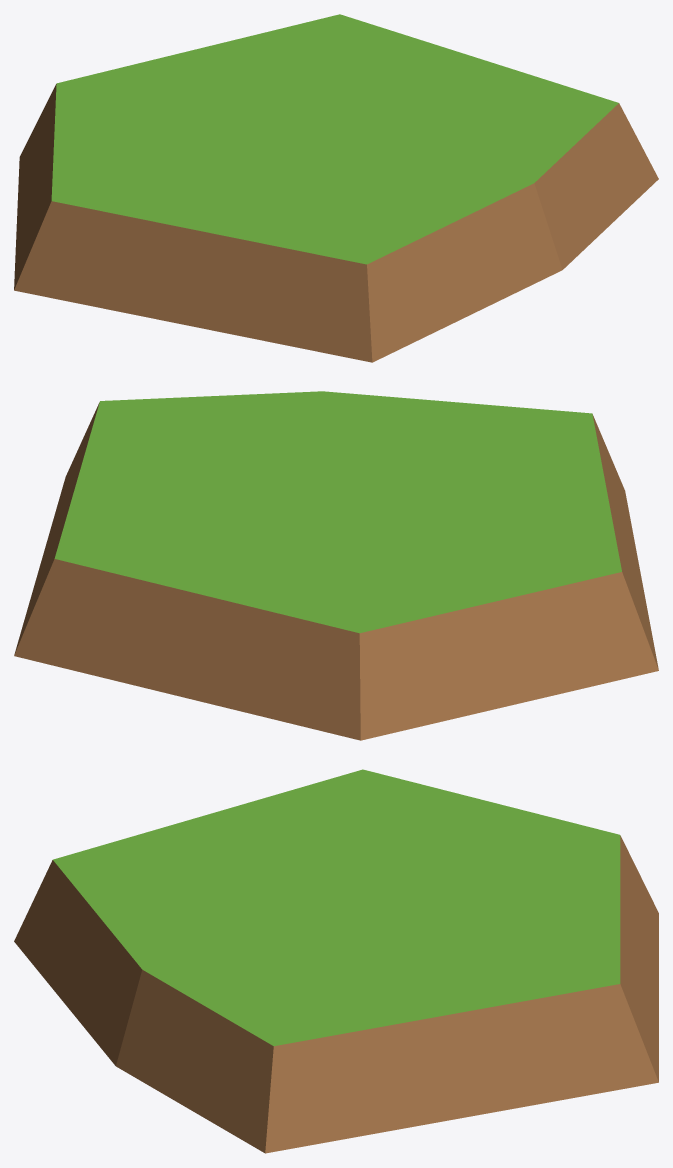
Rendered from rock_smallFlatA.glb.
3 renders of one model, top to bottom at view 1: azimuth 30°, elevation 25°; view 2: azimuth 150°, elevation 25°; view 3: azimuth 270°, elevation 25°, orthographic. The views are drawn at different scales.
Visible parts, largest first — view 1: rock_smallFlatA; view 2: rock_smallFlatA; view 3: rock_smallFlatA.
Boxes of the visible parts, x1,y1,x2,y2 form: rock_smallFlatA: (14, 14, 658, 362); rock_smallFlatA: (14, 391, 658, 740); rock_smallFlatA: (14, 769, 658, 1153).
Size of the model in its own units: 0.4958 by 0.0649 by 0.4296.
